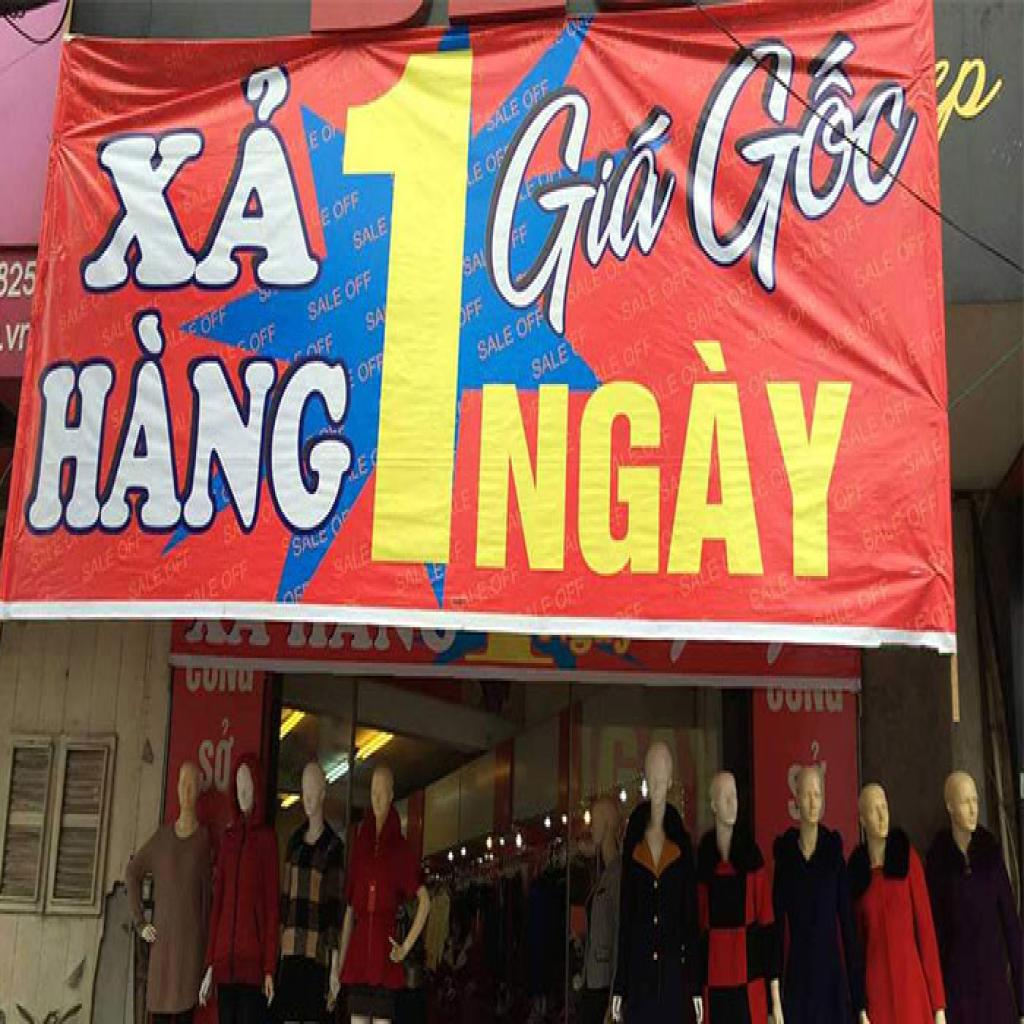text: (471, 328, 862, 584), (20, 317, 358, 535), (340, 46, 478, 579), (662, 26, 924, 304), (474, 61, 699, 343), (80, 52, 326, 294), (930, 49, 1012, 156), (195, 712, 244, 798), (810, 318, 862, 372), (850, 241, 900, 297), (859, 504, 908, 561), (875, 330, 923, 387), (901, 430, 948, 484), (788, 228, 836, 279), (746, 568, 793, 617), (879, 386, 920, 438), (683, 292, 729, 338), (332, 538, 375, 586), (530, 340, 574, 386), (618, 282, 662, 328), (743, 310, 787, 356), (900, 164, 942, 212), (904, 486, 944, 535), (350, 210, 392, 256), (304, 282, 346, 328), (564, 264, 606, 310), (897, 220, 932, 274), (834, 468, 869, 522), (477, 320, 518, 366), (858, 297, 896, 346), (392, 558, 433, 602), (79, 543, 117, 589), (553, 571, 591, 617), (857, 574, 894, 620), (832, 207, 870, 251), (786, 287, 820, 333), (726, 269, 759, 315), (6, 259, 41, 302), (164, 538, 194, 588), (623, 330, 657, 374), (331, 184, 364, 226), (514, 304, 547, 346), (489, 560, 522, 602), (116, 525, 146, 571), (136, 558, 167, 602), (344, 266, 376, 307), (521, 74, 553, 115), (221, 553, 249, 599), (357, 348, 386, 392), (2, 312, 26, 361), (200, 302, 230, 341), (460, 243, 486, 284), (831, 589, 859, 627), (249, 322, 278, 358), (484, 143, 508, 182), (364, 302, 388, 338), (500, 92, 524, 128), (509, 218, 531, 256), (476, 573, 492, 607), (356, 451, 372, 481), (471, 159, 486, 189), (206, 574, 221, 602), (308, 128, 322, 156), (319, 205, 333, 233), (291, 535, 304, 563)
